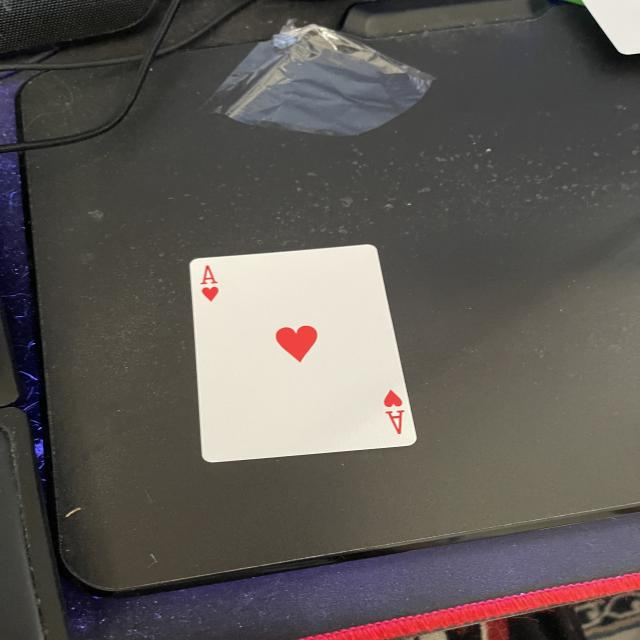Ace of hearts: (190, 243, 421, 466)
